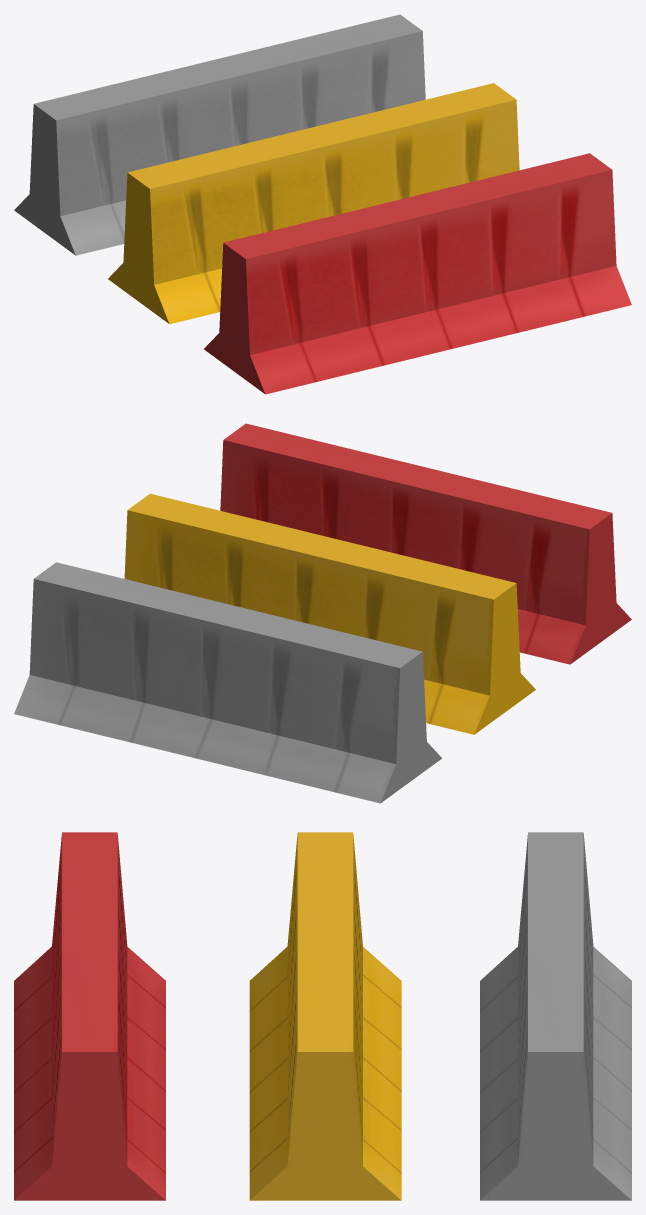
The model's file is barricada.obj.
3 renders of one model, top to bottom at view 1: azimuth 30°, elevation 25°; view 2: azimuth 150°, elevation 25°; view 3: azimuth 270°, elevation 25°, orthographic. The views are drawn at different scales.
Parts seen in each view (by area): view 1: Cube.002, Cube.001, Cube; view 2: Cube, Cube.002, Cube.001; view 3: Cube.001, Cube, Cube.002.
Boxes of the visible parts, x1,y1,x2,y2 form: Cube.002: (204, 153, 631, 394); Cube.001: (108, 83, 519, 324); Cube: (14, 14, 425, 255); Cube: (14, 562, 441, 803); Cube.002: (220, 423, 631, 664); Cube.001: (124, 493, 535, 734); Cube.001: (249, 832, 401, 1200); Cube: (480, 832, 631, 1200); Cube.002: (14, 832, 165, 1200).
Bounding box in the file's own units: 8.17 × 2.58 × 9.71.
